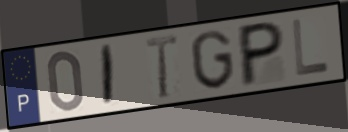0: (45, 48, 86, 114)
G: (188, 27, 237, 91)
I: (101, 42, 115, 109)
L: (290, 17, 332, 79)
P: (239, 19, 287, 90)
T: (143, 32, 181, 101)
